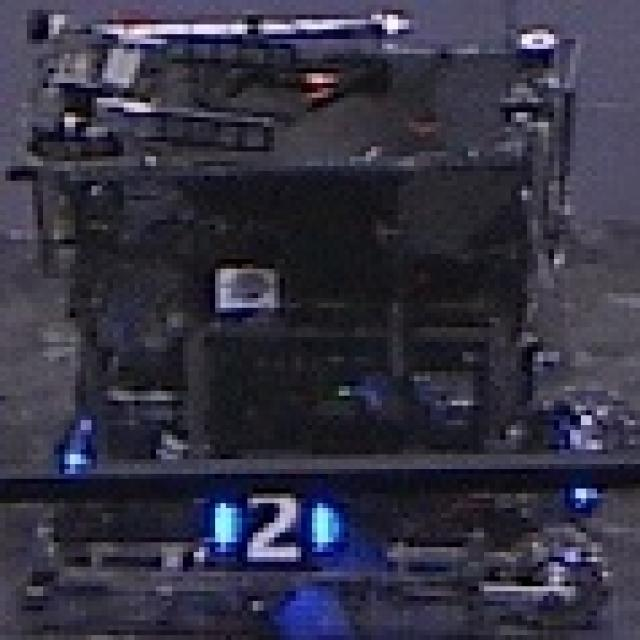B2: (210, 484, 339, 562)
